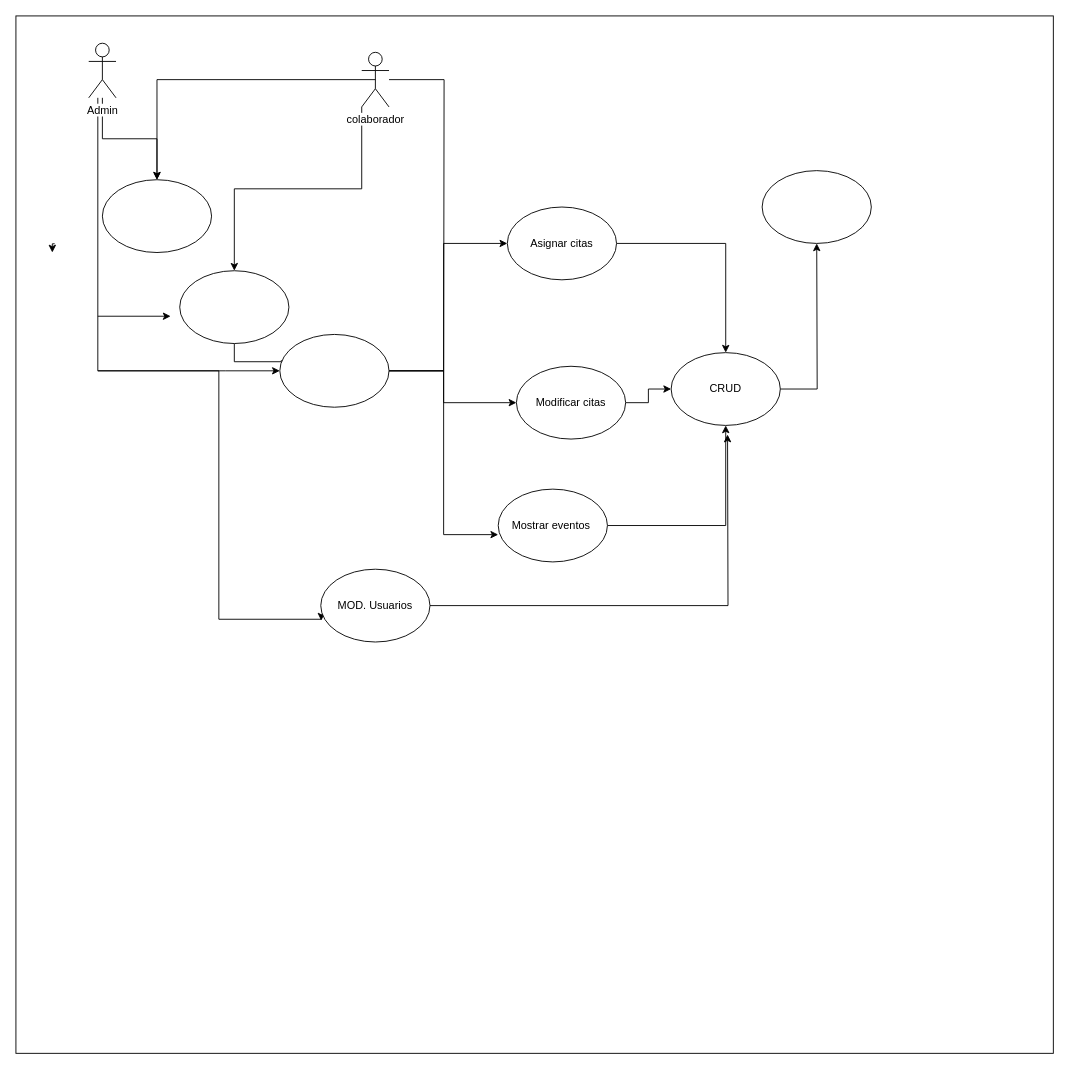
Some shapes in this 1069 by 1069 pixel diagram are drawn without their labels. The shapes that lost their labels are listed below. From the top down, each one's centre as x and y in pixels, then its label:
At (x=156, y=216): "Regisro".
At (x=816, y=206): "Conexión".
At (x=234, y=307): "Datos de inicio de sesión".
At (x=334, y=370): "Validación".
